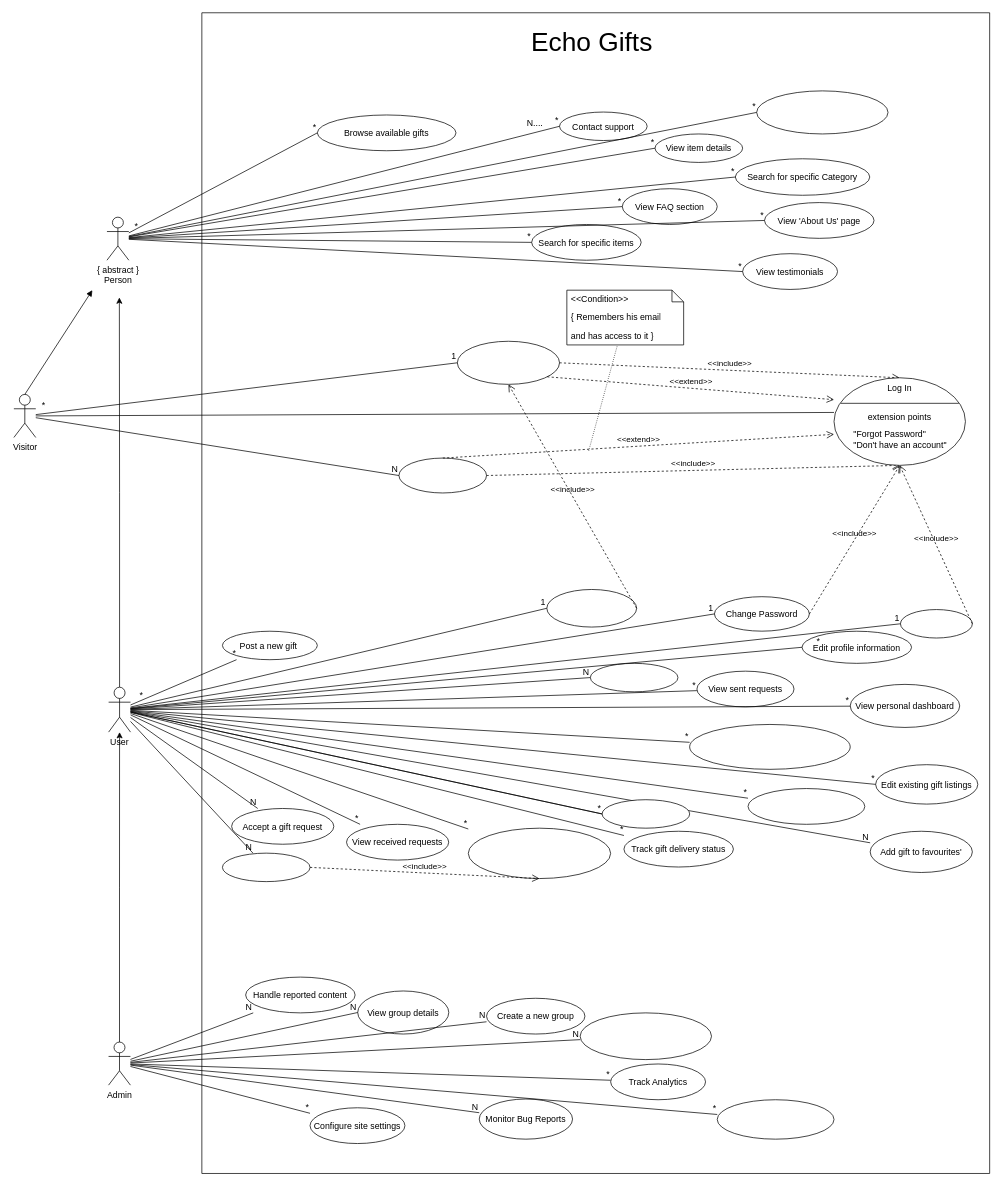
The diagram is 1002 pixels wide and 1186 high, and some of its shapes have lost their labels. Here are the shapes that lost their labels. From the top down, the centre of each, then its label:
At (822,112): "Report inappropriate content".
At (508,362): "Register an account".
At (442,475): "Forgot Password".
At (591,608): "Delete Account".
At (936,623): "Log out".
At (634,677): "Delete gift listings".
At (769,746): "Receive messages from other users".
At (645,813): "View a group".
At (806,806): "Change privacy settings".
At (266,867): "Request a gift".
At (539,853): "Send messages to other users".
At (645,1036): "Approve or reject gift listings".
At (775,1119): "Manage users accounts".
